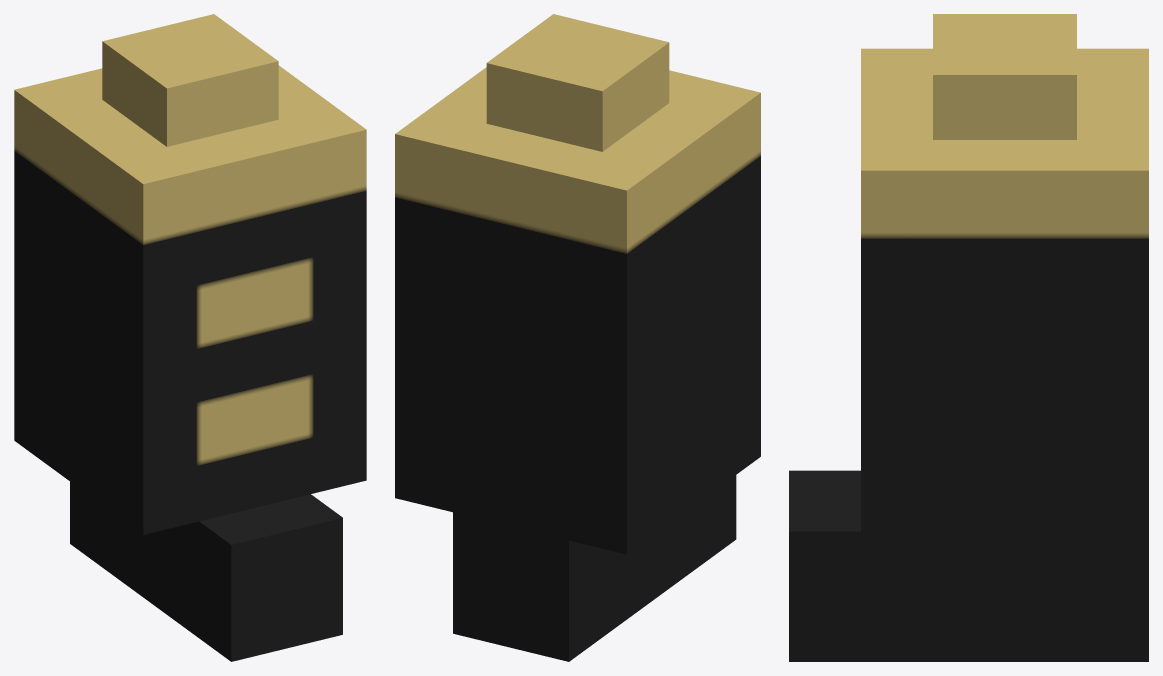
Rendered from Knee069.fbx.
3 renders of one model, left to right at view 1: azimuth 30°, elevation 25°; view 2: azimuth 150°, elevation 25°; view 3: azimuth 270°, elevation 25°, orthographic. The views are drawn at different scales.
Visible parts, largest first — view 1: Knee069; view 2: Knee069; view 3: Knee069.
Boxes of the visible parts, x1,y1,x2,y2 form: Knee069: (14,14,366,661); Knee069: (395,14,760,661); Knee069: (789,14,1148,661).
Size of the model in its own units: 4 by 9 by 5.
